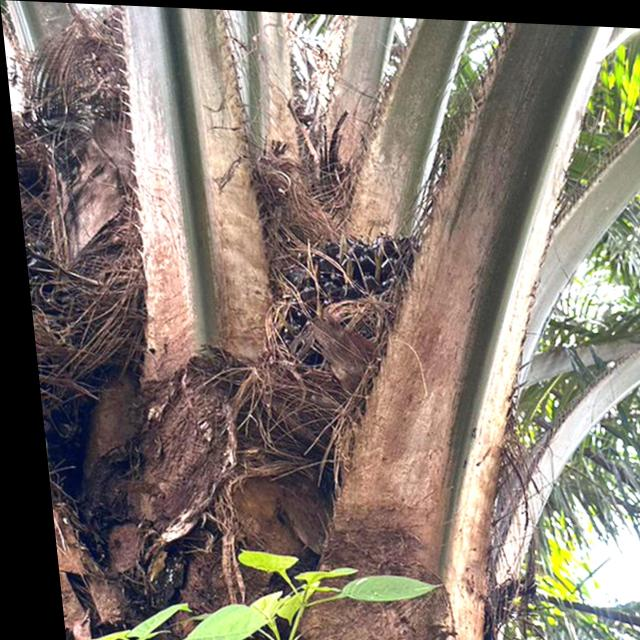ripe: (252, 208, 437, 421)
